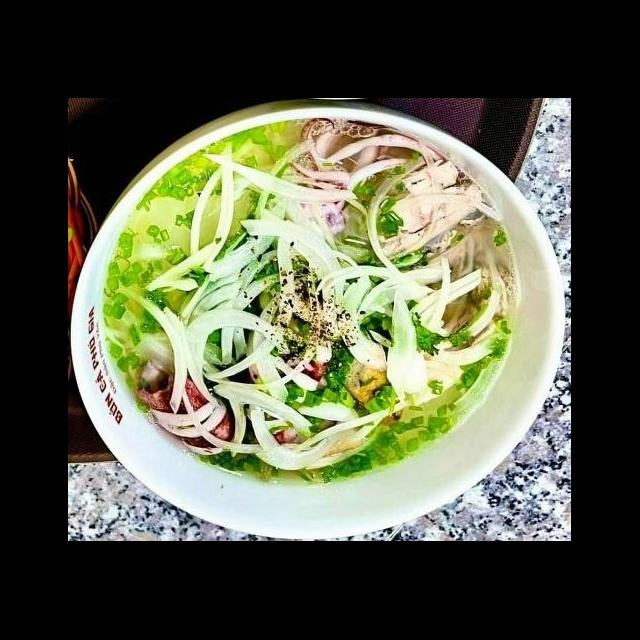muc: (278, 115, 384, 238), (130, 354, 236, 460), (260, 338, 336, 448)
